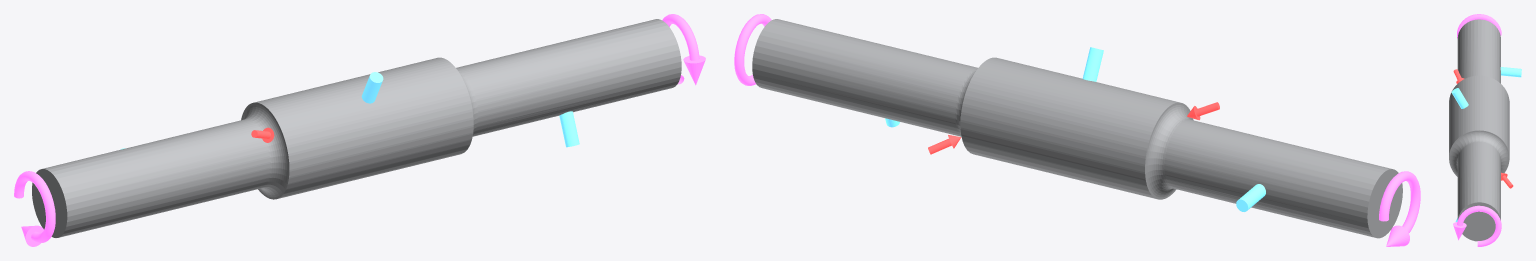
File: steppedshaft.glb
3 views of the same model, side by side, from view 1: azimuth 30°, elevation 25°; view 2: azimuth 150°, elevation 25°; view 3: azimuth 270°, elevation 25° (orthographic). The views are drawn at different scales.
Parts seen in each view (by area): view 1: steppedshaft, TorsionArrow_Front, TorsionArrow_Rear, ForceArrow_Bearing_32.5, ForceArrow_Bearing_0; view 2: steppedshaft, TorsionArrow_Front, TorsionArrow_Rear, ForceArrow_Bearing_0, ForceArrow_Bearing_-32.5; view 3: steppedshaft, TorsionArrow_Rear, TorsionArrow_Front, ForceArrow_Bearing_-32.5, ForceArrow_Bearing_0, ForceArrow_Fillet_15, ForceArrow_Fillet_-15.001.
Part boxes in pixels (x1,y1,x2,y2): steppedshaft: (32,19,681,237); TorsionArrow_Front: (14,171,55,246); TorsionArrow_Rear: (662,14,705,85); ForceArrow_Bearing_32.5: (559,111,579,147); ForceArrow_Bearing_0: (361,72,383,103); steppedshaft: (752,19,1402,238); TorsionArrow_Front: (1379,171,1420,246); TorsionArrow_Rear: (734,14,771,85); ForceArrow_Bearing_0: (1082,47,1103,81); ForceArrow_Bearing_-32.5: (1236,184,1265,211); steppedshaft: (1449,19,1509,241); TorsionArrow_Rear: (1453,205,1501,246); TorsionArrow_Front: (1457,14,1501,38); ForceArrow_Bearing_-32.5: (1500,67,1521,77); ForceArrow_Bearing_0: (1451,88,1468,108); ForceArrow_Fillet_15: (1501,172,1513,188); ForceArrow_Fillet_-15.001: (1453,69,1464,83).
Size of the model in its own units: 21.6 by 3.89 by 3.37.
